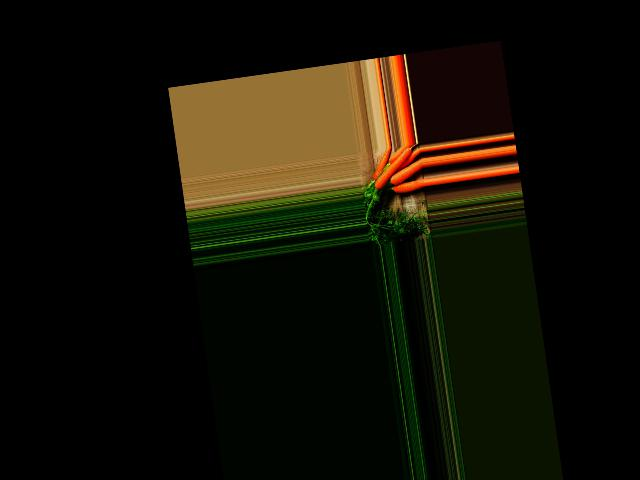carrot: (388, 161, 412, 165)
